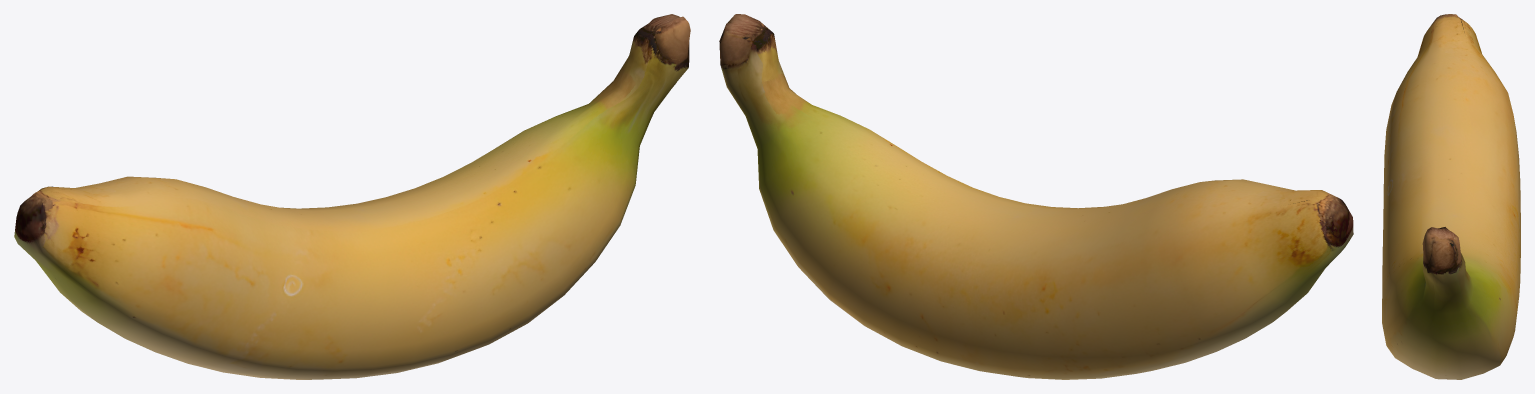
The model's file is SM_Banana.fbx.
3 renders of one model, left to right at view 1: azimuth 30°, elevation 25°; view 2: azimuth 150°, elevation 25°; view 3: azimuth 270°, elevation 25°, orthographic. The views are drawn at different scales.
Visible parts, largest first — view 1: SM_Banana; view 2: SM_Banana; view 3: SM_Banana.
Boxes of the visible parts, x1,y1,x2,y2 form: SM_Banana: (14,14,690,379); SM_Banana: (719,14,1353,379); SM_Banana: (1382,14,1520,379).
Bounding box in the file's own units: 13.18 × 5.48 × 3.05.
